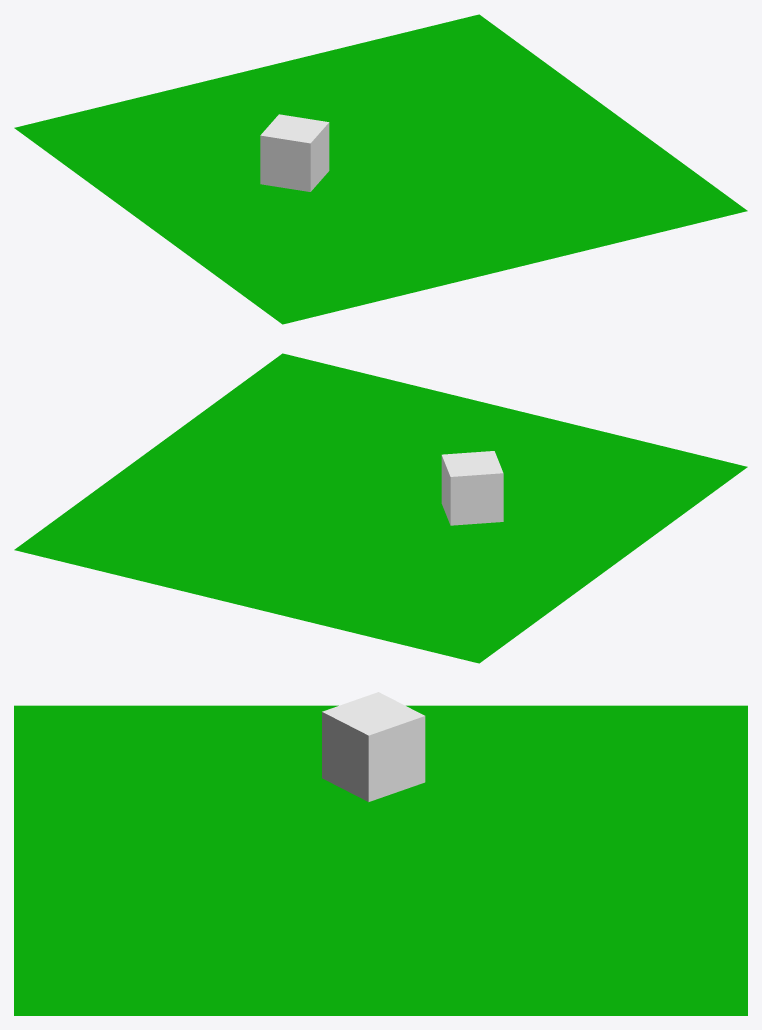
Rendered from BabylonScene.gltf.
The picture shows the model from 3 angles, top to bottom: view 1: azimuth 30°, elevation 25°; view 2: azimuth 150°, elevation 25°; view 3: azimuth 270°, elevation 25°; orthographic projection. The views are drawn at different scales.
Visible parts, largest first — view 1: Plane, Cube; view 2: Plane, Cube; view 3: Plane, Cube.
Boxes of the visible parts, x1,y1,x2,y2 form: Plane: (14, 14, 747, 324); Cube: (260, 114, 329, 191); Plane: (14, 353, 747, 663); Cube: (441, 451, 503, 525); Plane: (14, 705, 747, 1015); Cube: (322, 692, 425, 801).
Bounding box in the file's own units: 10 × 1.32 × 10.
